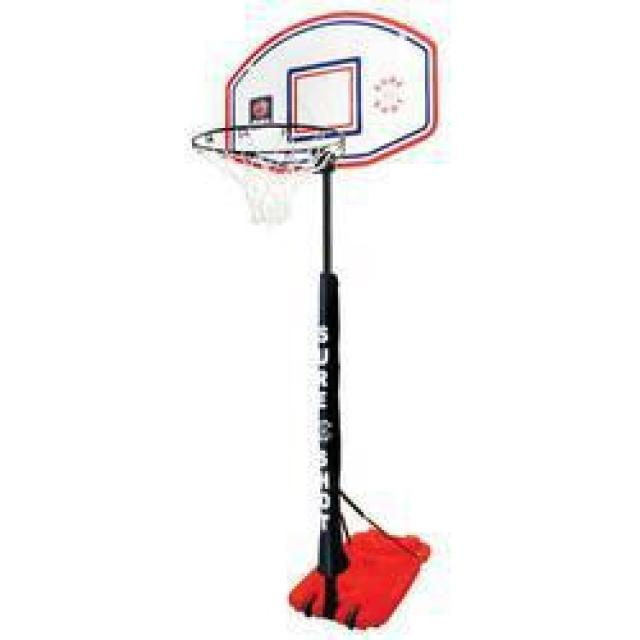hoop: (192, 122, 348, 225)
